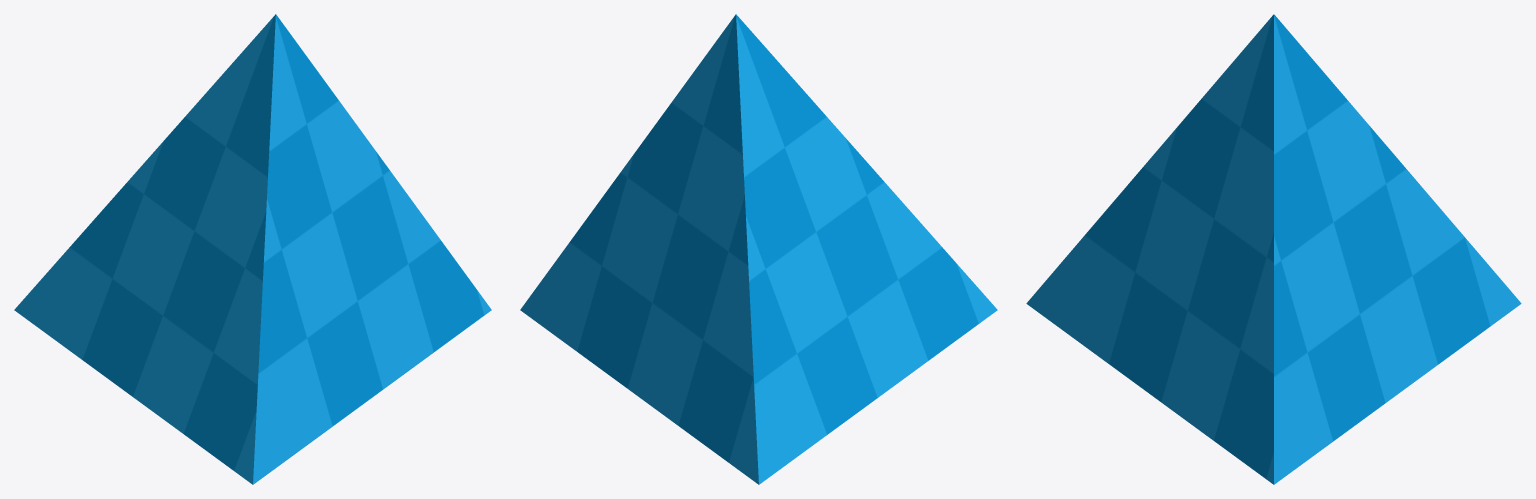
File: tetrahedron1030.FBX
The picture shows the model from 3 angles, left to right: view 1: azimuth 30°, elevation 25°; view 2: azimuth 150°, elevation 25°; view 3: azimuth 270°, elevation 25°; orthographic projection. The views are drawn at different scales.
Parts seen in each view (by area): view 1: tetrahedron1030; view 2: tetrahedron1030; view 3: tetrahedron1030.
Part boxes in pixels (x1,y1,x2,y2): tetrahedron1030: (14,14,491,484); tetrahedron1030: (520,14,997,484); tetrahedron1030: (1026,14,1521,484).
Size of the model in its own units: 101 by 116 by 93.75.
